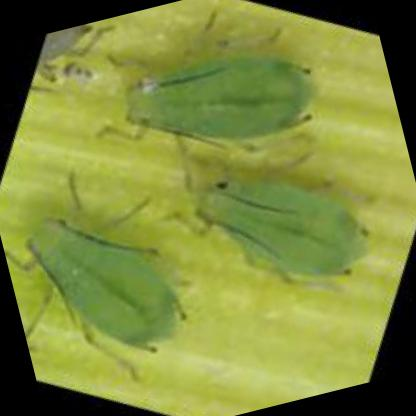schizaphis graminum: (27, 214, 175, 343), (194, 176, 378, 279), (128, 55, 323, 144)
